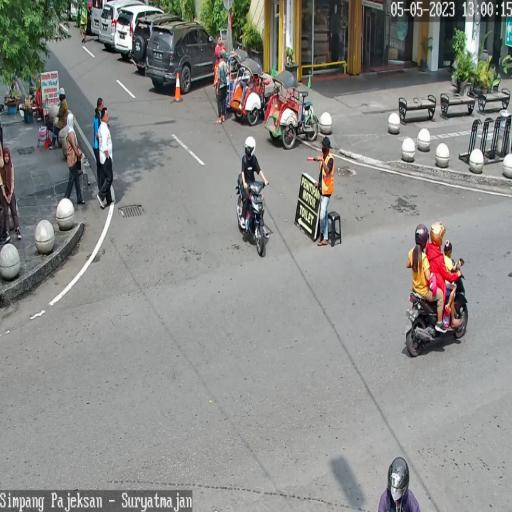mobil: (146, 22, 217, 95), (133, 14, 183, 76), (116, 5, 168, 64)
motor: (405, 257, 468, 357), (236, 170, 271, 260)
